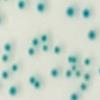Blue_green: (85, 27, 97, 42), (65, 5, 76, 19), (80, 6, 91, 20), (7, 85, 18, 97), (36, 0, 45, 14), (0, 51, 9, 65), (27, 74, 37, 86), (16, 0, 26, 11), (38, 33, 49, 43), (51, 45, 61, 56), (9, 63, 20, 73), (50, 67, 59, 79), (3, 41, 12, 53), (0, 69, 10, 79), (31, 36, 39, 48), (82, 72, 91, 82), (79, 81, 88, 91), (65, 68, 73, 79), (27, 46, 35, 57), (69, 91, 78, 100), (83, 57, 91, 67), (42, 43, 49, 53), (74, 69, 81, 79), (34, 79, 41, 89), (66, 55, 73, 63), (71, 63, 78, 71), (71, 55, 77, 64), (97, 67, 100, 75)
